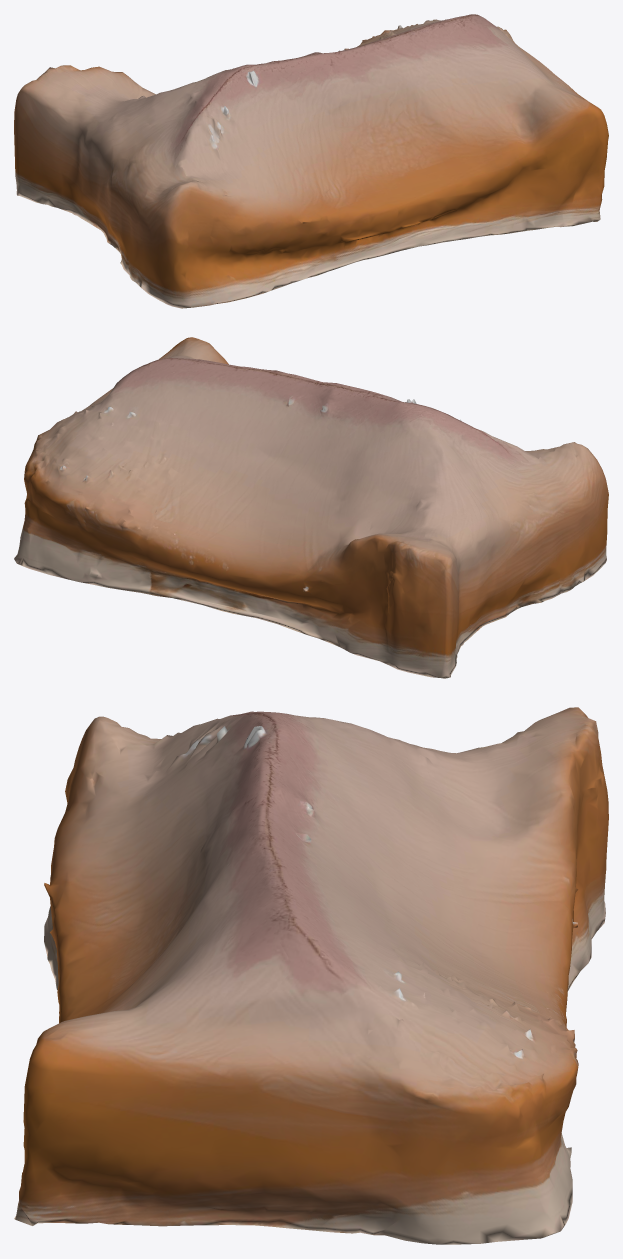
File: Montaña.fbx
3 views of the same model, one above another, from view 1: azimuth 30°, elevation 25°; view 2: azimuth 150°, elevation 25°; view 3: azimuth 270°, elevation 25° (orthographic). The views are drawn at different scales.
Parts seen in each view (by area): view 1: tripo_node_bb98af19; view 2: tripo_node_bb98af19; view 3: tripo_node_bb98af19.
Part boxes in pixels (x1,y1,x2,y2): tripo_node_bb98af19: (14, 14, 608, 308); tripo_node_bb98af19: (14, 337, 608, 678); tripo_node_bb98af19: (14, 707, 608, 1244).
Bounding box in the file's own units: 0.9994 × 0.3517 × 0.692.
Materials: 1 (1 with a texture image).
